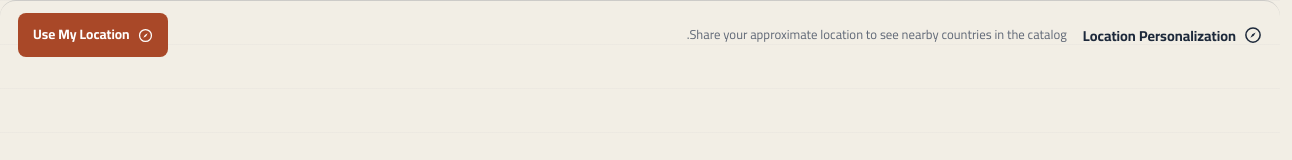
Scenario: Phase 12 — LocationPersonalize › shows the unsupported message and no request button when geolocation is unavailable in the browser
The width and height of the screenshot is (1292, 160).
Click the button "Use My Location" at (93, 35), box [18, 13, 168, 57]
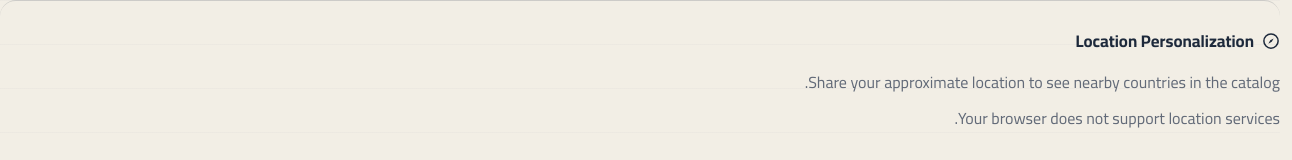
Now the text "Your browser does not support location services." is shown, box [954, 103, 1280, 133]
